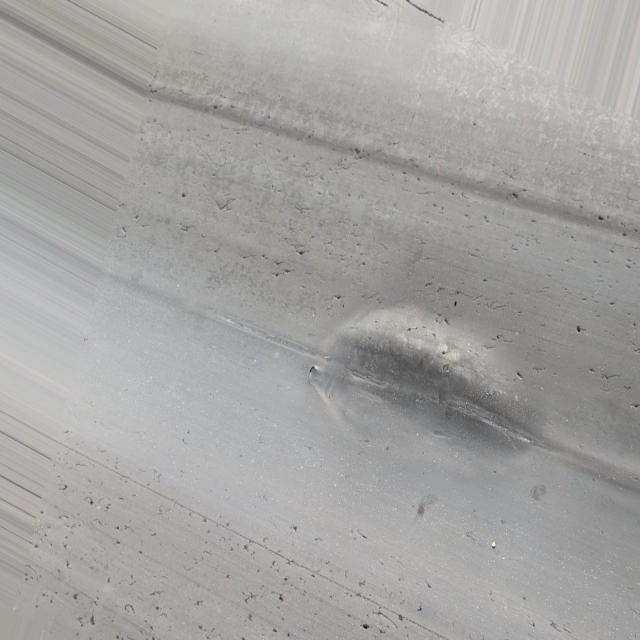Impact Damage: (316, 292, 548, 470)
Puncture: (508, 190, 523, 205), (330, 290, 344, 302), (572, 322, 584, 336), (358, 620, 372, 632), (294, 246, 307, 258), (270, 269, 283, 281), (71, 589, 82, 603), (88, 612, 99, 626), (394, 612, 408, 623), (512, 368, 524, 380), (629, 399, 640, 412), (56, 482, 70, 492), (594, 213, 606, 224), (276, 590, 285, 604), (288, 523, 299, 534), (178, 191, 190, 201), (352, 146, 362, 158), (86, 496, 96, 508), (450, 298, 460, 308), (112, 521, 120, 533), (210, 104, 220, 113), (224, 572, 232, 582)
